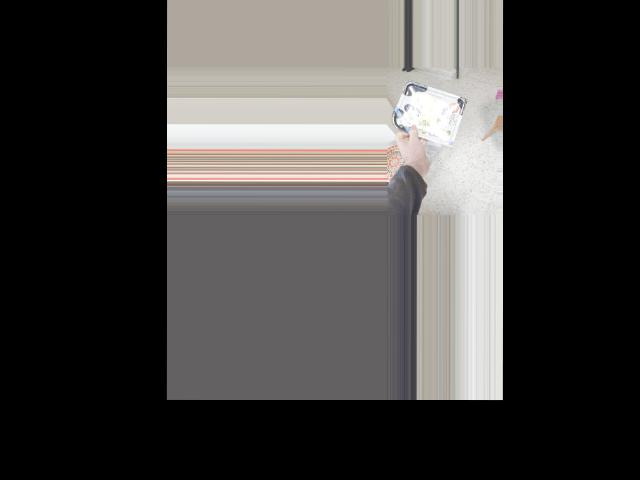cheese: (395, 88, 458, 134)
